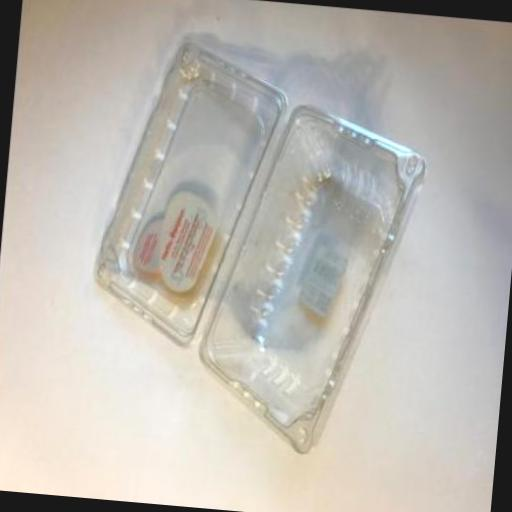plastic: (78, 34, 434, 460), (189, 93, 430, 462), (86, 34, 290, 353)
